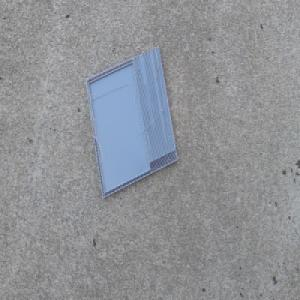PlasticPart: (84, 44, 178, 200)
